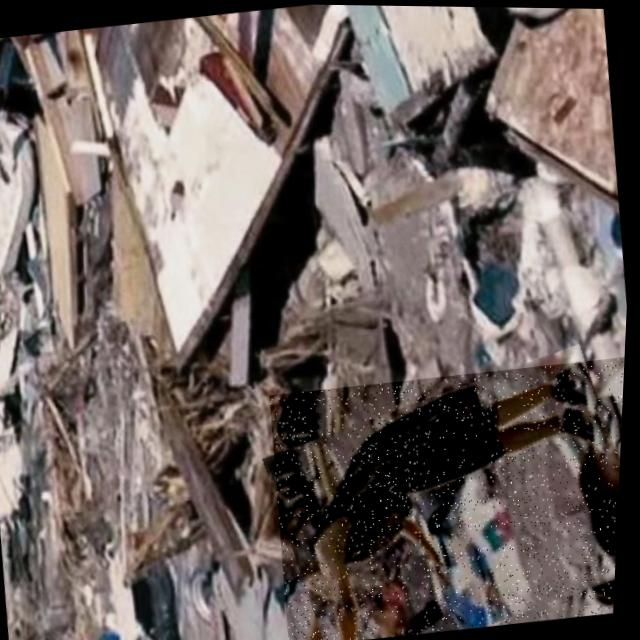Person in Rubble: (264, 349, 628, 640)
